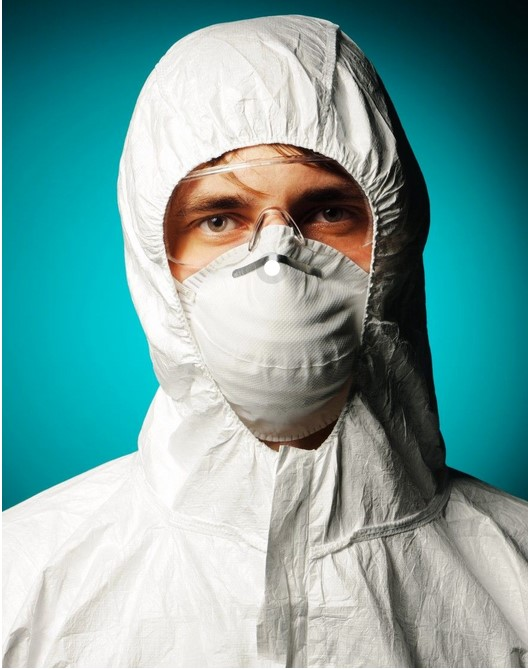face_with_mask: (115, 11, 435, 452)
